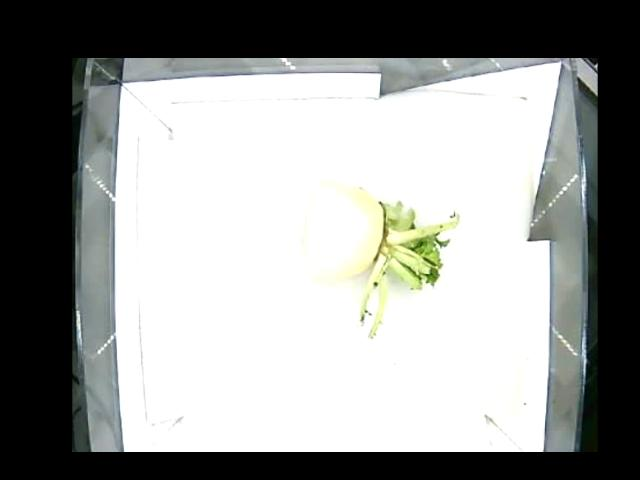Mooli: (306, 180, 452, 304)
